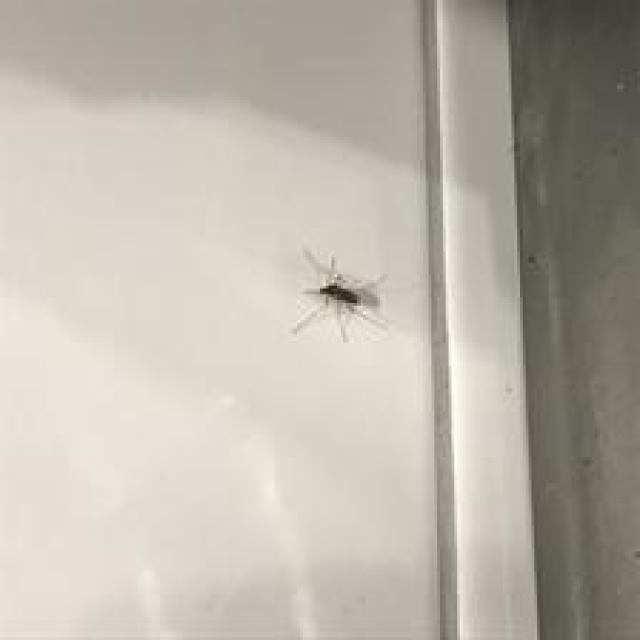Culex: (290, 247, 390, 344)
